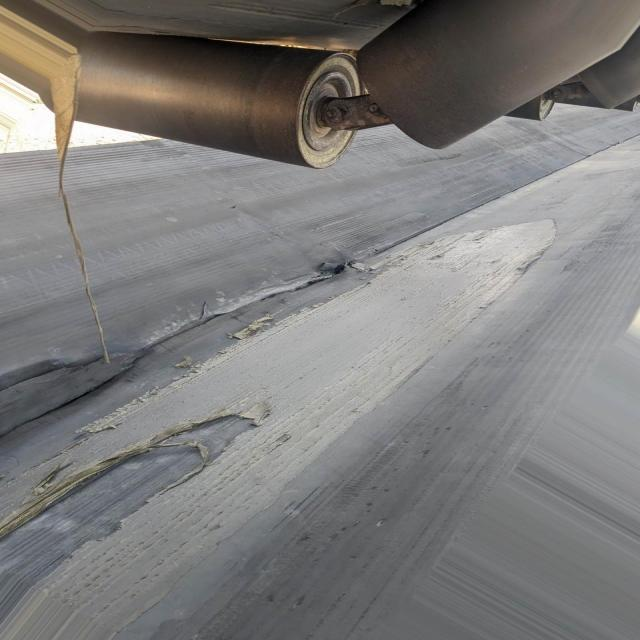Roller: (39, 31, 366, 169), (350, 0, 622, 150)
Tear: (0, 264, 402, 481), (0, 416, 251, 584)
